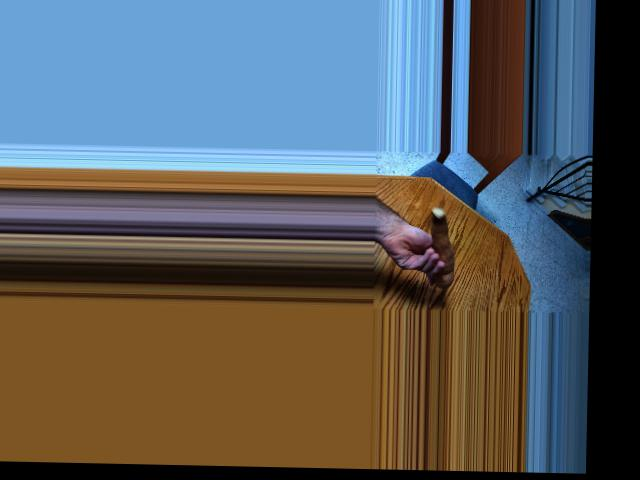sweet_potato: (421, 210, 458, 289)
